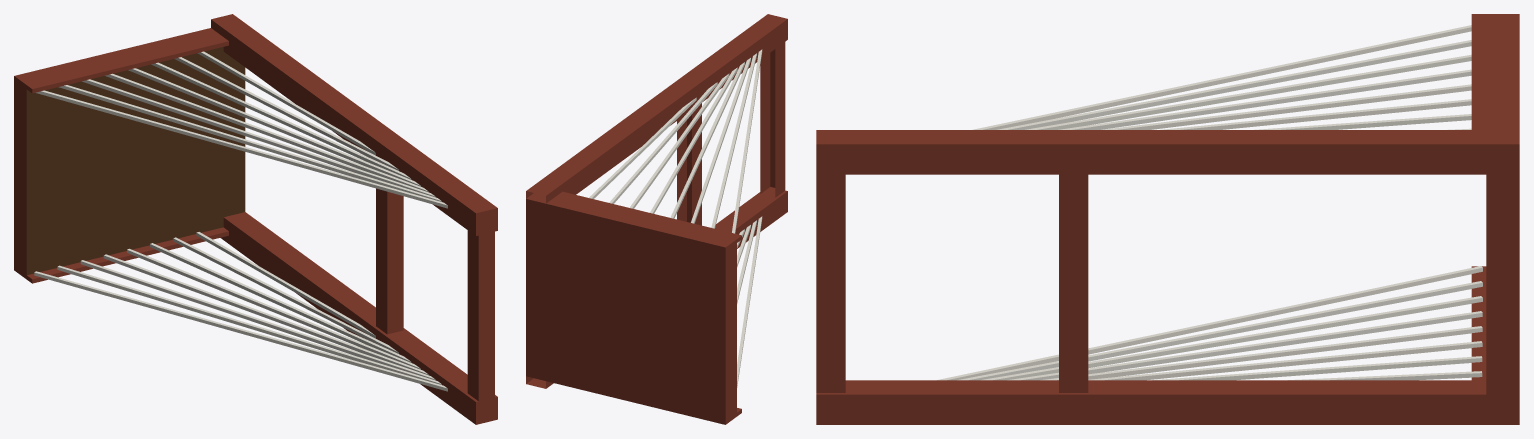
The model's file is north.glb.
The picture shows the model from 3 angles, left to right: view 1: azimuth 30°, elevation 25°; view 2: azimuth 150°, elevation 25°; view 3: azimuth 270°, elevation 25°; orthographic projection. The views are drawn at different scales.
Visible parts, largest first — view 1: bridge_04_north; view 2: bridge_04_north; view 3: bridge_04_north.
Part boxes in pixels (<box>): bridge_04_north: <box>14,14,497,424</box>; bridge_04_north: <box>526,14,787,424</box>; bridge_04_north: <box>816,14,1519,424</box>.
Size of the model in its own units: 16 by 14.8 by 33.6.
